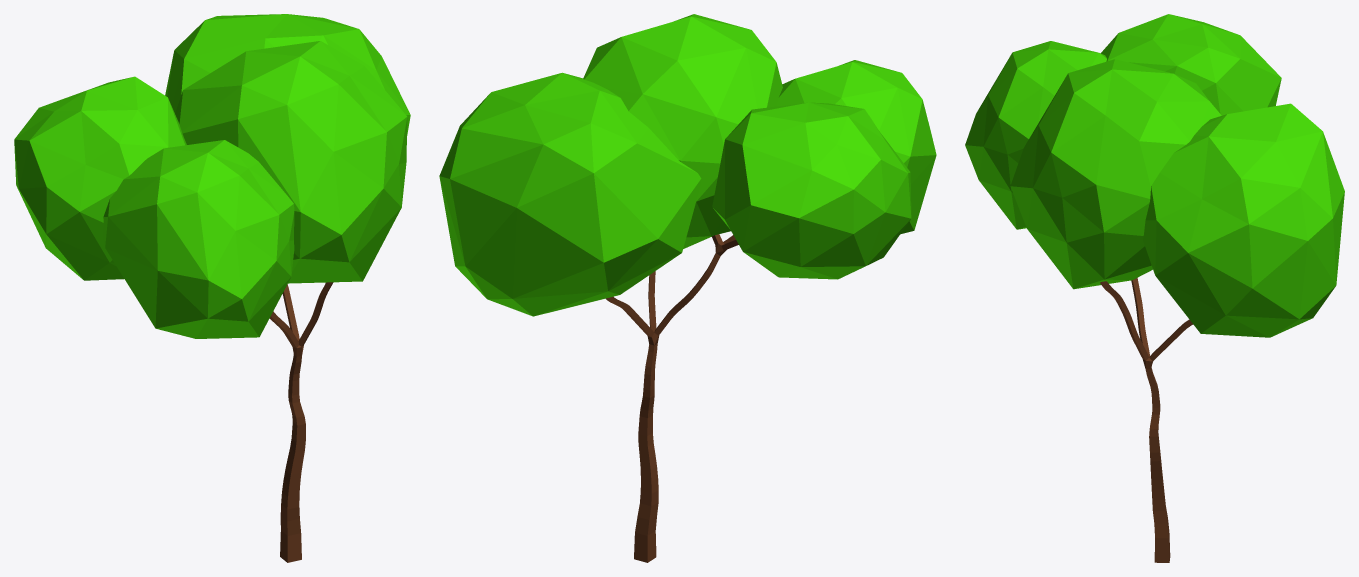
The model's file is lowPolyTree4.fbx.
3 views of the same model, side by side, from view 1: azimuth 30°, elevation 25°; view 2: azimuth 150°, elevation 25°; view 3: azimuth 270°, elevation 25° (orthographic). The views are drawn at different scales.
Visible parts, largest first — view 1: Icosphere.002, Icosphere.001, Icosphere, Icosphere.003, Trunk; view 2: Icosphere.003, Icosphere, Icosphere.002, Icosphere.001, Trunk; view 3: Icosphere.003, Icosphere.002, Icosphere.001, Icosphere, Trunk.
Boxes of the visible parts, x1,y1,x2,y2 form: Icosphere.002: (175, 41, 407, 283); Icosphere.001: (103, 140, 294, 338); Icosphere: (14, 76, 186, 280); Icosphere.003: (165, 14, 410, 135); Trunk: (269, 282, 333, 562); Icosphere.003: (439, 72, 701, 316); Icosphere: (712, 102, 911, 279); Icosphere.002: (583, 14, 782, 248); Icosphere.001: (777, 60, 936, 234); Trunk: (606, 234, 738, 562); Icosphere.003: (1143, 103, 1344, 337); Icosphere.002: (1010, 59, 1221, 289); Icosphere.001: (965, 41, 1106, 229); Icosphere: (1100, 14, 1281, 115); Trunk: (1100, 278, 1193, 562).
Size of the model in its own units: 1402 by 1776 by 1268.
